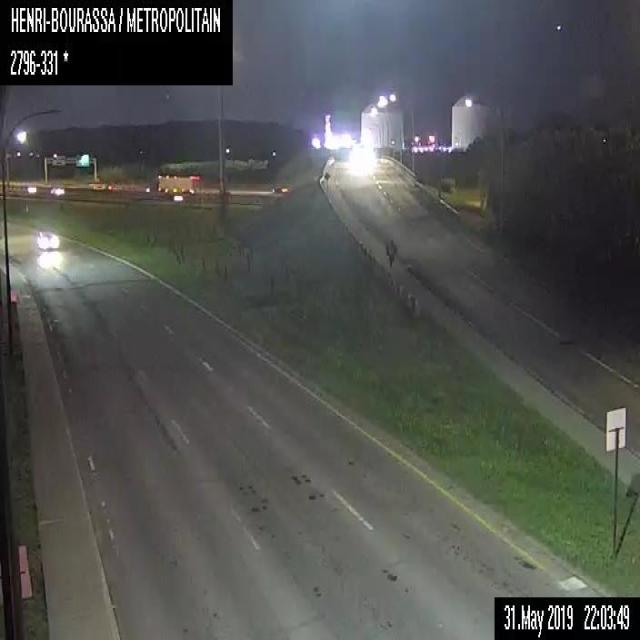pedestrian: (385, 236, 396, 266)
vehicle: (157, 175, 199, 192), (36, 230, 58, 249), (50, 186, 64, 193)
